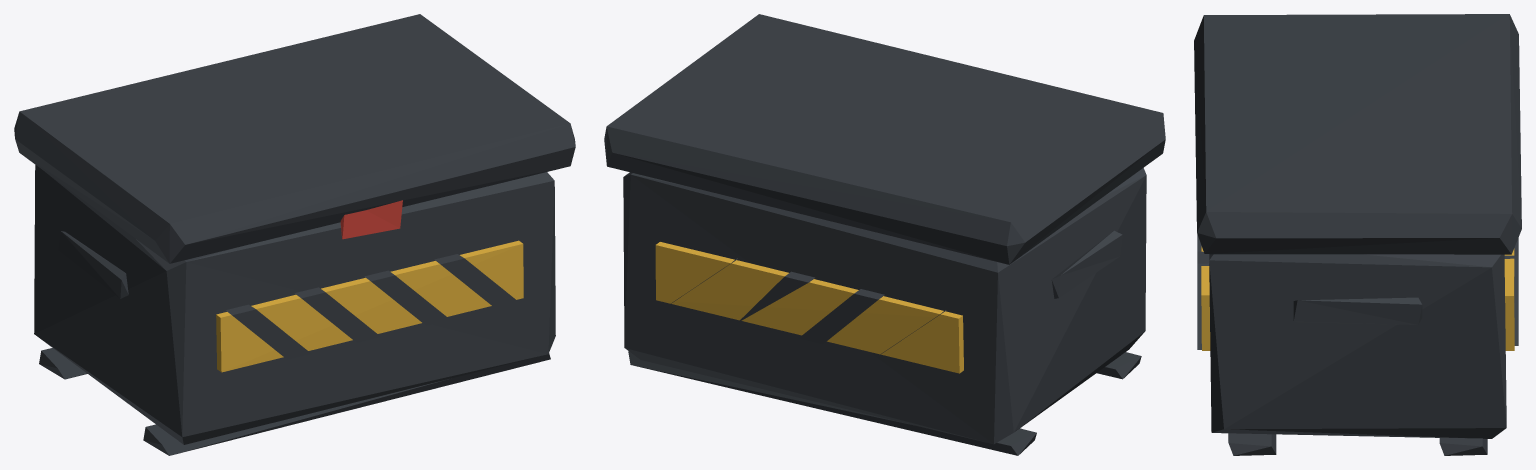
File: ammo_crate_lod1.obj
3 views of the same model, side by side, from view 1: azimuth 30°, elevation 25°; view 2: azimuth 150°, elevation 25°; view 3: azimuth 270°, elevation 25° (orthographic).
Visible parts, largest first — view 1: ammo_crate_lod1; view 2: ammo_crate_lod1; view 3: ammo_crate_lod1.
Part boxes in pixels (x1,y1,x2,y2): ammo_crate_lod1: (14, 14, 575, 455); ammo_crate_lod1: (604, 14, 1165, 455); ammo_crate_lod1: (1194, 14, 1521, 455).
Size of the model in its own units: 0.604 by 0.3374 by 0.404.
